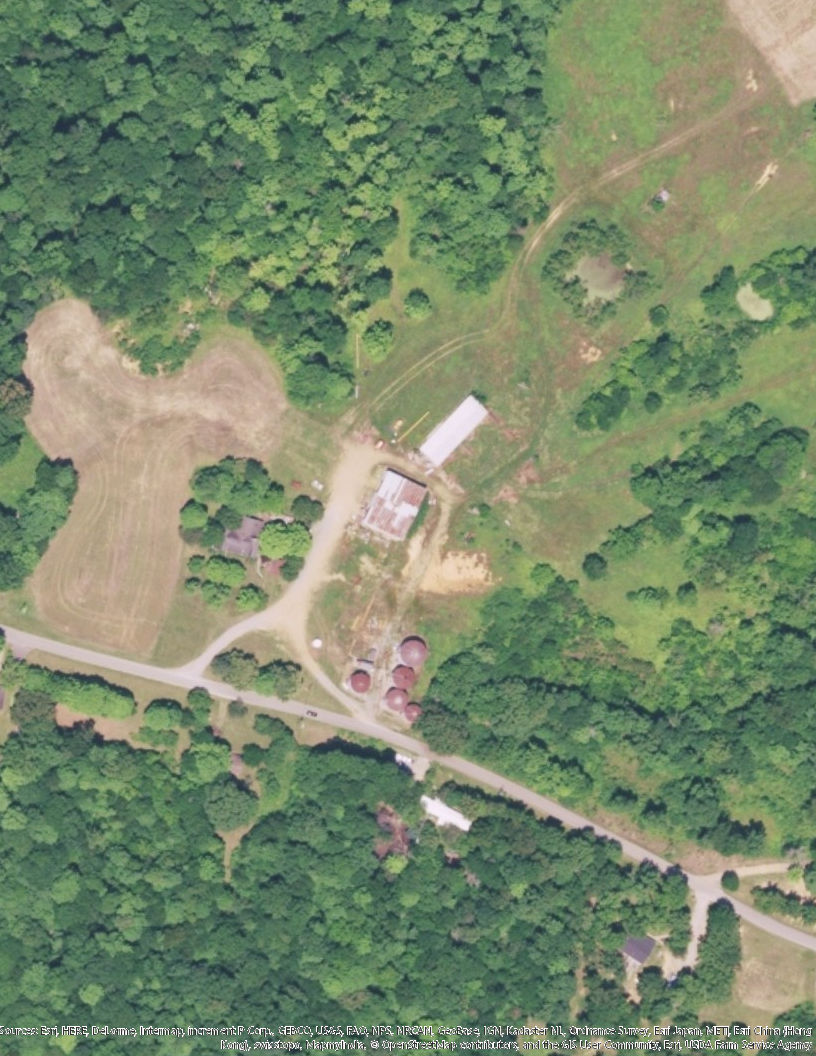cafo: (418, 388, 495, 469), (359, 469, 436, 544)
